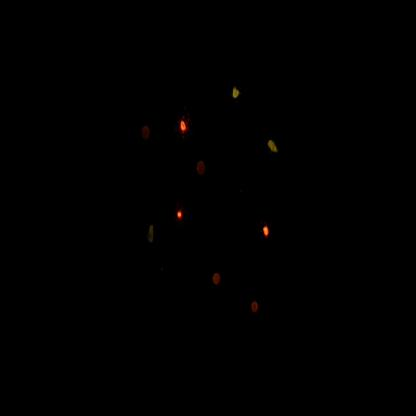PP: (145, 214, 162, 256), (264, 132, 285, 163), (229, 80, 245, 105)
PS: (137, 115, 157, 148), (209, 264, 228, 293), (248, 292, 264, 324), (193, 156, 210, 182)
PVC: (260, 213, 277, 246), (177, 109, 192, 146), (174, 202, 188, 235)
